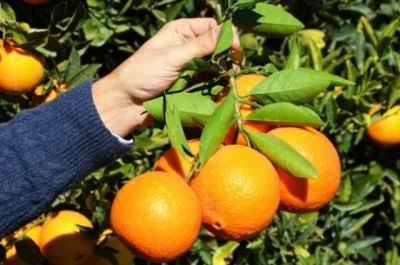portakal: (267, 126, 359, 215), (111, 171, 206, 255), (1, 4, 57, 103), (366, 91, 400, 163)
